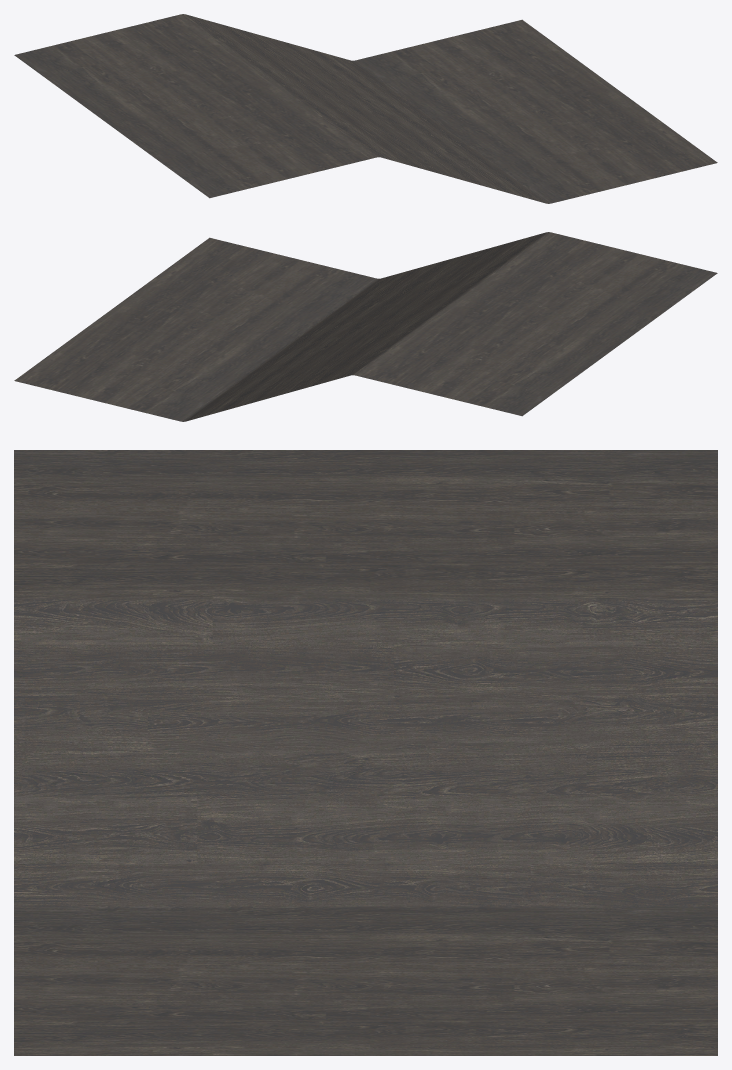
File: SM_dev_ceiling_stair_200_x_100_t.fbx
The picture shows the model from 3 angles, top to bottom: view 1: azimuth 30°, elevation 25°; view 2: azimuth 150°, elevation 25°; view 3: azimuth 270°, elevation 25°; orthographic projection. The views are drawn at different scales.
Visible parts, largest first — view 1: pPlane431; view 2: pPlane431; view 3: pPlane431.
Boxes of the visible parts, x1=… form: pPlane431: x1=14, y1=14, x2=717, y2=203; pPlane431: x1=14, y1=232, x2=717, y2=421; pPlane431: x1=14, y1=450, x2=717, y2=1055.
Bounding box in the file's own units: 3 × 0.5 × 2.
